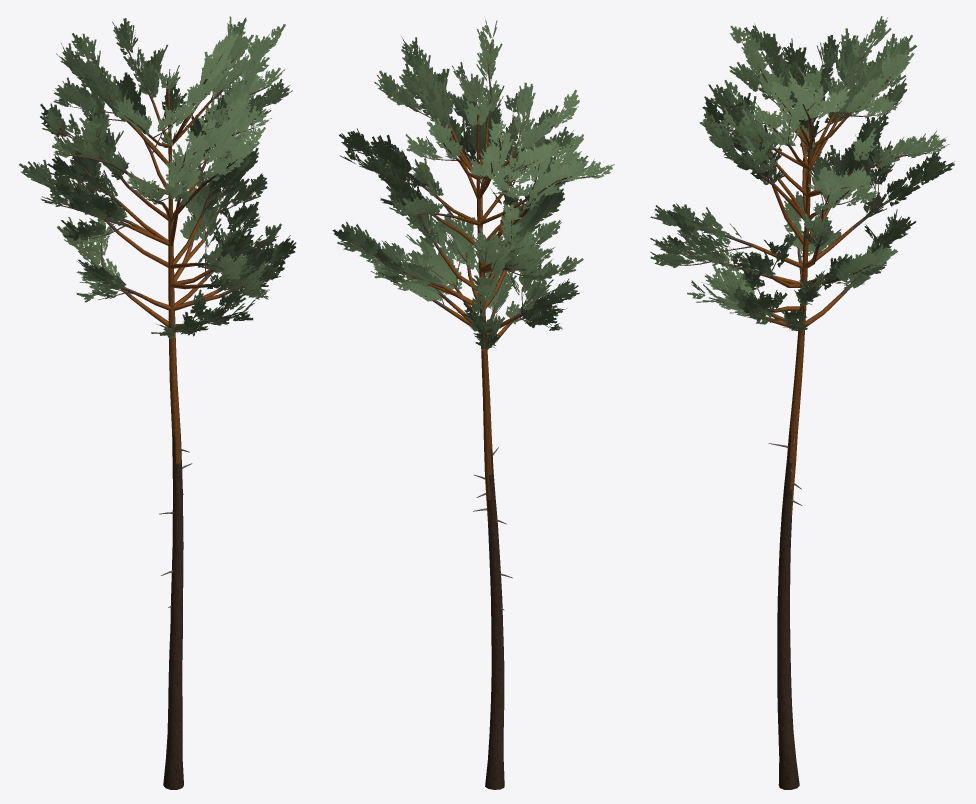
Rendered from pine.glb.
3 renders of one model, left to right at view 1: azimuth 30°, elevation 25°; view 2: azimuth 150°, elevation 25°; view 3: azimuth 270°, elevation 25°, orthographic. The views are drawn at different scales.
Visible parts, largest first — view 1: pine; view 2: pine; view 3: pine.
Boxes of the visible parts, <box> form: pine: <box>19,16,296,789</box>; pine: <box>332,16,614,789</box>; pine: <box>650,16,954,789</box>.
Size of the model in its own units: 7.66 by 21.03 by 7.7.
Materials: 5 (3 with a texture image).
